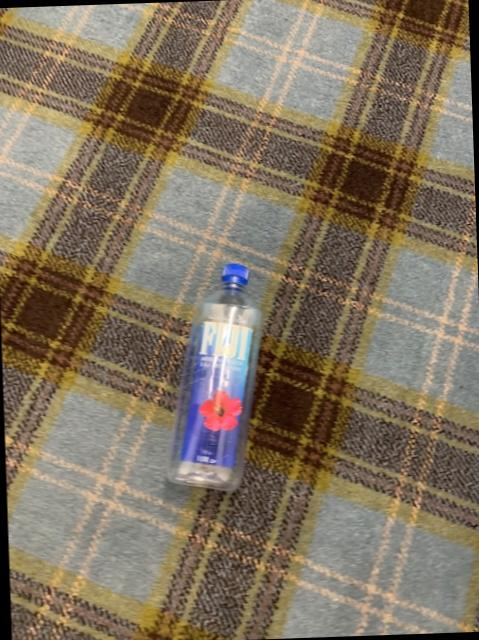plastic: (165, 263, 259, 489)
